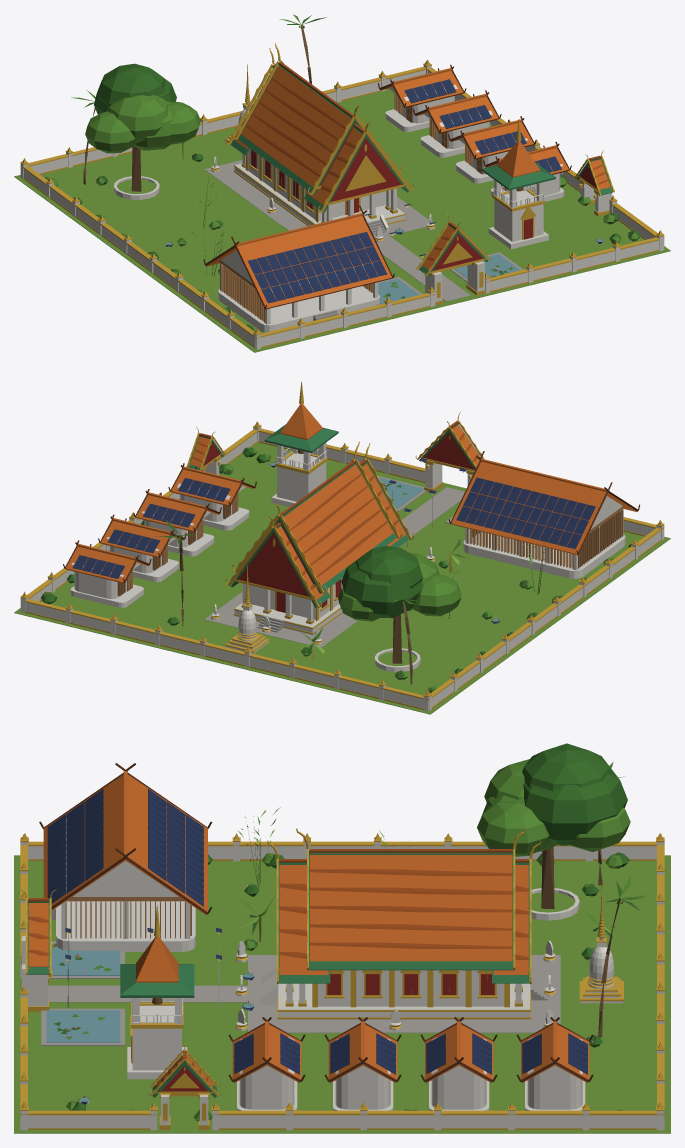
The model's file is temple_2.glb.
3 views of the same model, one above another, from view 1: azimuth 30°, elevation 25°; view 2: azimuth 150°, elevation 25°; view 3: azimuth 270°, elevation 25° (orthographic). The views are drawn at different scales.
Parts seen in each view (by area): view 1: body; view 2: body; view 3: body.
Part boxes in pixels (<box>): body: <box>14,14,670,352</box>; body: <box>14,381,670,714</box>; body: <box>14,743,670,1133</box>.
Bounding box in the file's own units: 47.9 × 13.53 × 47.9.
